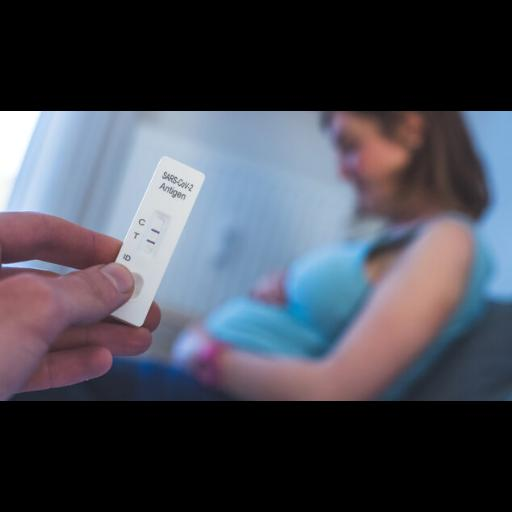Pos: (94, 153, 209, 328)
